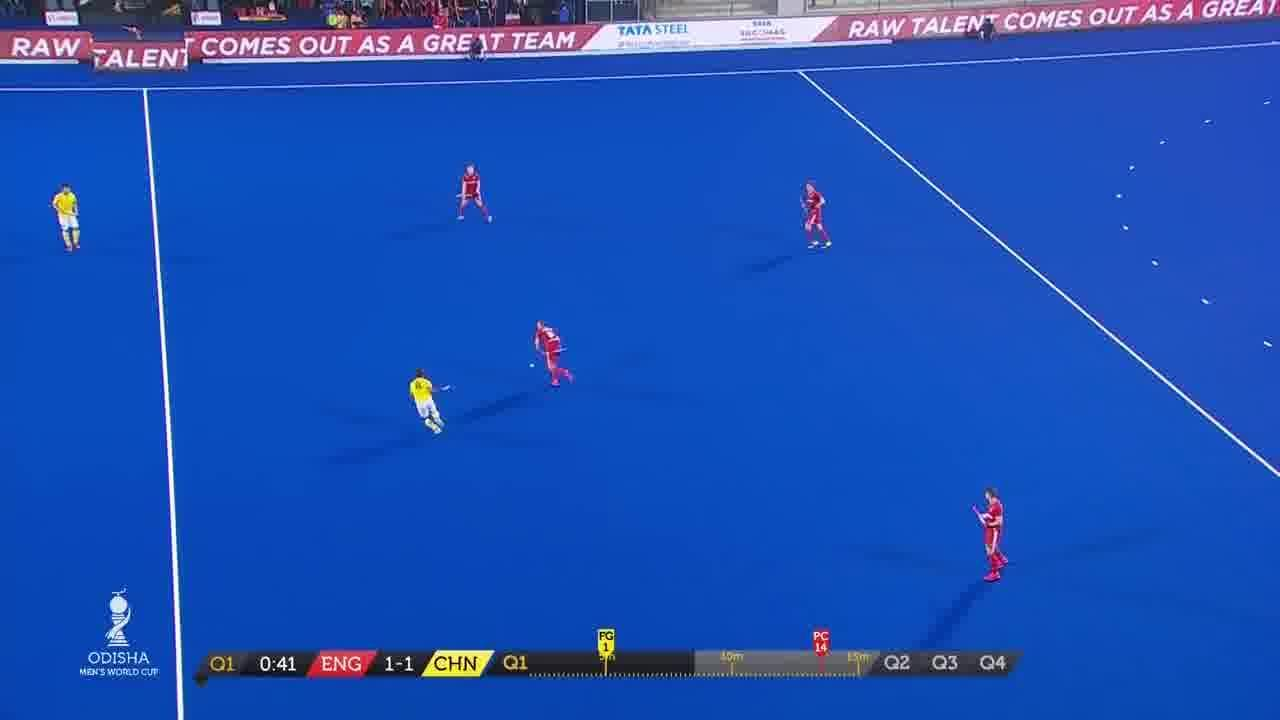ball: (524, 359, 538, 371)
